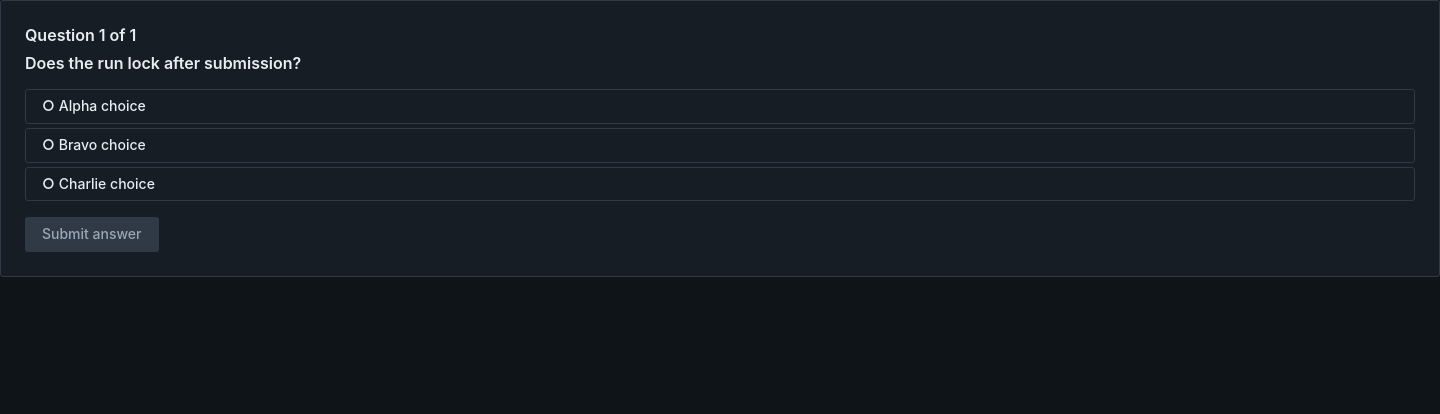
Scenario: QuestionRun: answering one question › marks a correct submission correct, in words as well as colour
Click the button "○Bravo choice" at (102, 144), box [25,128,1415,163]
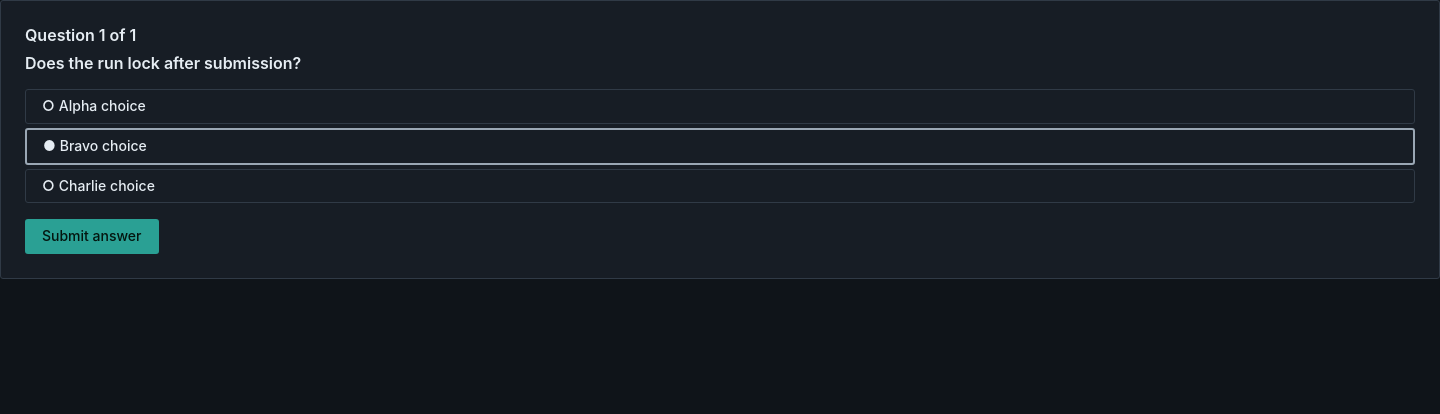
Click the button "Submit answer" at (92, 237), box [25,219,158,254]
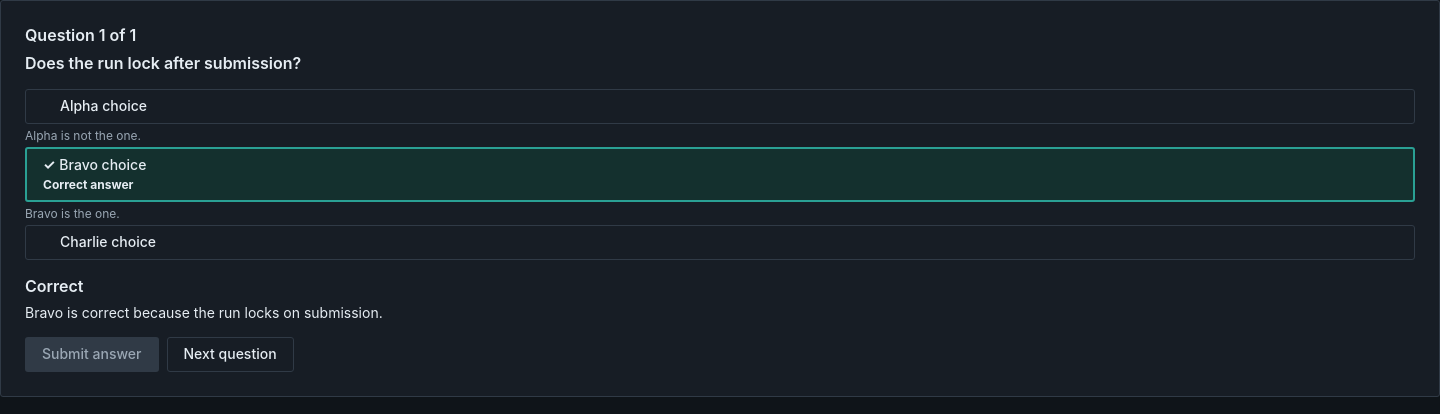
Now the message shows "Correct", box [25,276,84,296]
